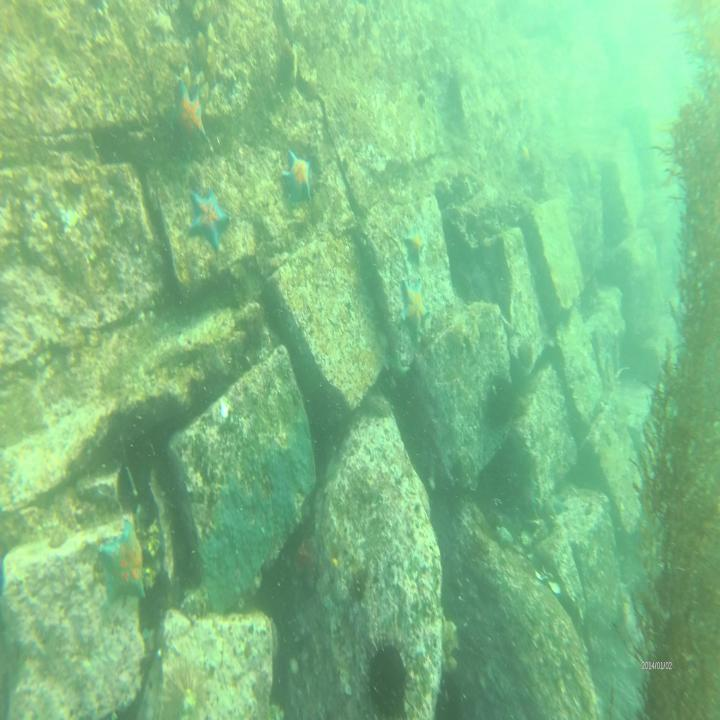echinus: (367, 636, 412, 720), (485, 371, 516, 430)
starfish: (100, 522, 148, 604), (188, 189, 230, 255), (174, 77, 210, 146), (397, 278, 431, 342), (282, 146, 313, 204), (404, 222, 428, 268)
